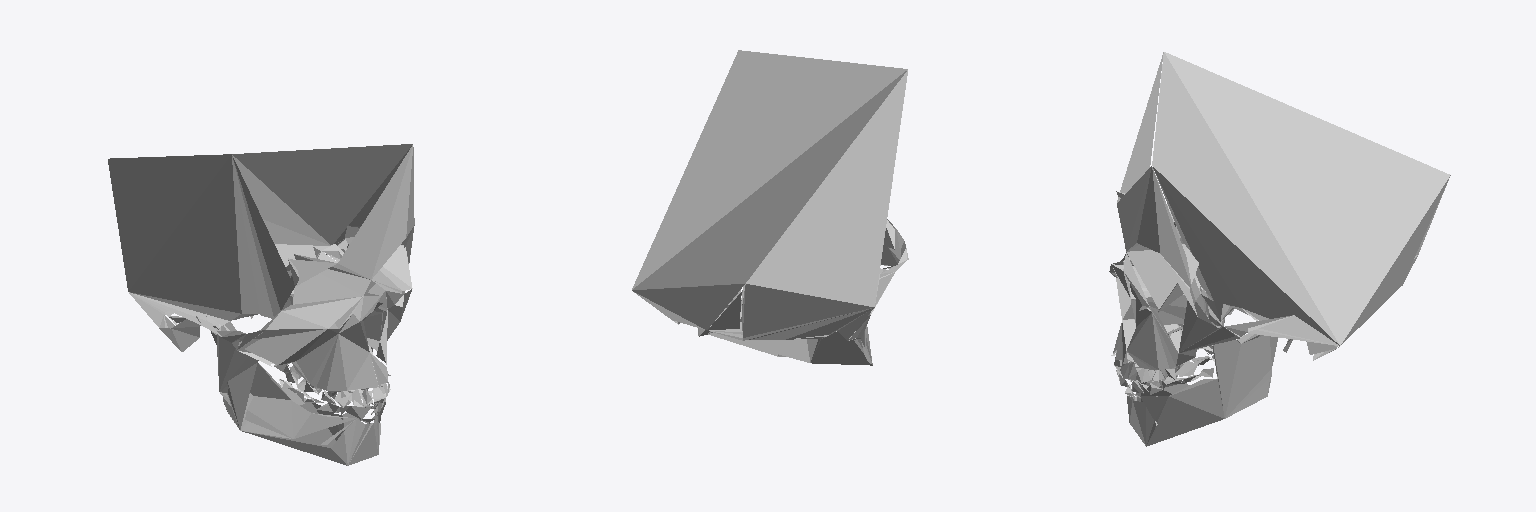
3 views of the same model, side by side, from view 1: azimuth 30°, elevation 25°; view 2: azimuth 150°, elevation 25°; view 3: azimuth 270°, elevation 25° (orthographic).
Visible parts, largest first — view 1: skull; view 2: skull; view 3: skull.
Boxes of the visible parts, <box> form: skull: <box>108,144,414,465</box>; skull: <box>632,50,908,365</box>; skull: <box>1109,52,1450,446</box>.
Bounding box in the file's own units: 4.91 × 6.58 × 6.2.